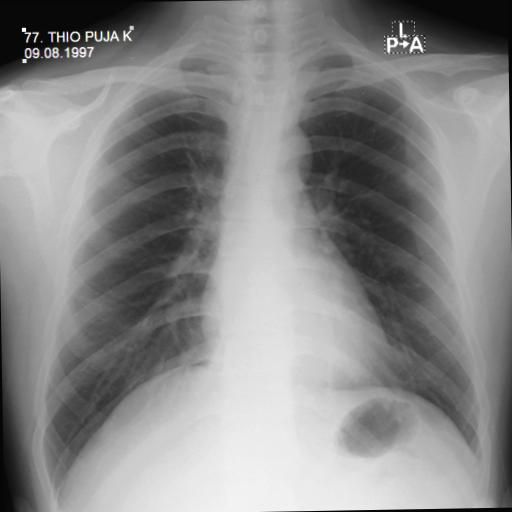normal: (28, 18, 503, 506)
